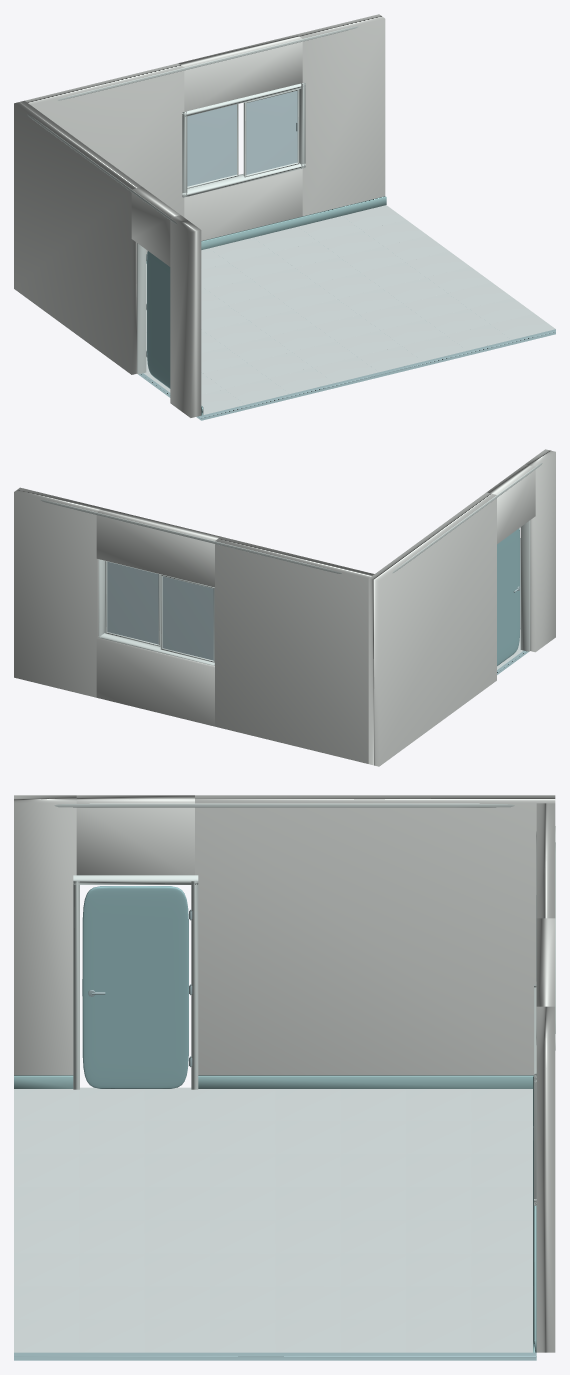
3 renders of one model, top to bottom at view 1: azimuth 30°, elevation 25°; view 2: azimuth 150°, elevation 25°; view 3: azimuth 270°, elevation 25°, orthographic. The views are drawn at different scales.
Visible parts, largest first — view 1: Left_Wall_Back, Back_Wall_Right, Back_Wall_Left, Left_Wall_Front, Back_Wall_Above_Window, Back_Wall_Below_Window, Sliding_Pane_Glass, Fixed_Pane_Glass, Entrance_Door_Leaf, Left_Wall_Above_Door, Floor_Foundation, Back_Skirting (+54 smaller); view 2: Back_Wall_Left, Left_Wall_Back, Back_Wall_Right, Back_Wall_Below_Window, Back_Wall_Above_Window, Left_Wall_Front, Fixed_Pane_Glass, Sliding_Pane_Glass, Entrance_Door_Leaf, Left_Wall_Above_Door, Door_Frame_Latch, Back_Wall_Top_Cap (+3 smaller); view 3: Left_Wall_Back, Entrance_Door_Leaf, Left_Wall_Front, Left_Wall_Above_Door, Back_Wall_Right, Floor_Foundation, Left_Skirting_Back, Back_Wall_Left, Floor_Tile_1_3, Floor_Tile_1_6, Floor_Tile_3_3, Floor_Tile_3_6 (+67 smaller).
Boxes of the visible parts, x1,y1,x2,y2 form: Left_Wall_Back: (14, 100, 141, 374); Back_Wall_Right: (297, 14, 385, 215); Back_Wall_Left: (25, 63, 184, 254); Left_Wall_Front: (170, 215, 201, 417); Back_Wall_Above_Window: (178, 34, 302, 111); Back_Wall_Below_Window: (184, 168, 302, 240); Sliding_Pane_Glass: (246, 90, 297, 174); Fixed_Pane_Glass: (187, 104, 236, 186); Entrance_Door_Leaf: (147, 251, 170, 388); Left_Wall_Above_Door: (131, 187, 180, 266); Floor_Foundation: (138, 329, 555, 420); Back_Skirting: (146, 196, 386, 263); Back_Wall_Left: (215, 536, 374, 763); Left_Wall_Back: (368, 492, 496, 766); Back_Wall_Right: (14, 487, 102, 697); Back_Wall_Below_Window: (96, 637, 214, 726); Back_Wall_Above_Window: (96, 508, 220, 587); Left_Wall_Front: (525, 449, 555, 652); Fixed_Pane_Glass: (162, 576, 213, 660); Sliding_Pane_Glass: (107, 561, 158, 644); Entrance_Door_Leaf: (497, 528, 520, 665); Left_Wall_Above_Door: (486, 464, 535, 543); Door_Frame_Latch: (520, 520, 530, 651); Back_Wall_Top_Cap: (40, 499, 341, 573); Left_Wall_Back: (195, 795, 555, 1075); Entrance_Door_Leaf: (82, 886, 188, 1088); Left_Wall_Front: (14, 795, 76, 1075); Left_Wall_Above_Door: (76, 795, 194, 875); Back_Wall_Right: (536, 1006, 555, 1352); Floor_Foundation: (14, 1352, 536, 1360); Left_Skirting_Back: (198, 1075, 533, 1088); Back_Wall_Left: (536, 803, 555, 918); Floor_Tile_1_3: (275, 1120, 340, 1153); Floor_Tile_1_6: (79, 1120, 144, 1153); Floor_Tile_3_3: (275, 1187, 340, 1220); Floor_Tile_3_6: (79, 1187, 144, 1220).
Bounding box in the file's own units: 6.18 × 3.08 × 5.18.
